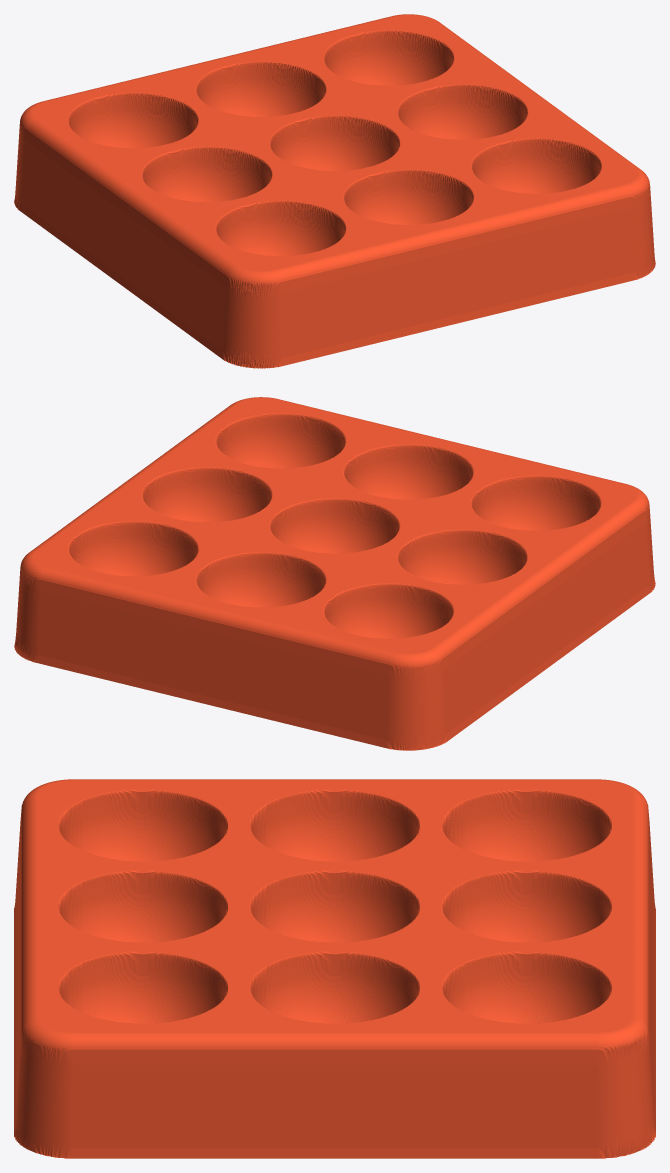
The model's file is mold.glb.
3 renders of one model, top to bottom at view 1: azimuth 30°, elevation 25°; view 2: azimuth 150°, elevation 25°; view 3: azimuth 270°, elevation 25°, orthographic. The views are drawn at different scales.
Visible parts, largest first — view 1: geometry_0; view 2: geometry_0; view 3: geometry_0.
Part boxes in pixels (<box>): geometry_0: <box>14,14,655,368</box>; geometry_0: <box>14,397,655,750</box>; geometry_0: <box>14,779,655,1158</box>.
Size of the model in its own units: 0.0984 by 0.0197 by 0.0984.
